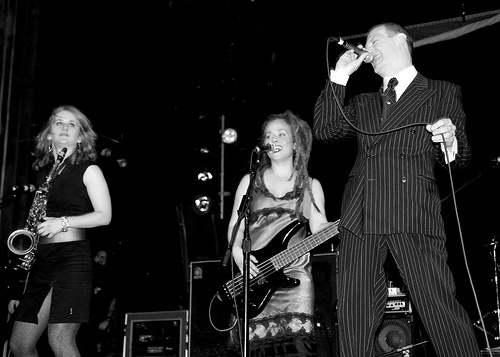head: (362, 18, 420, 82), (258, 106, 300, 162), (46, 100, 84, 150)
person: (328, 21, 471, 356), (216, 103, 338, 357), (1, 98, 112, 356)
